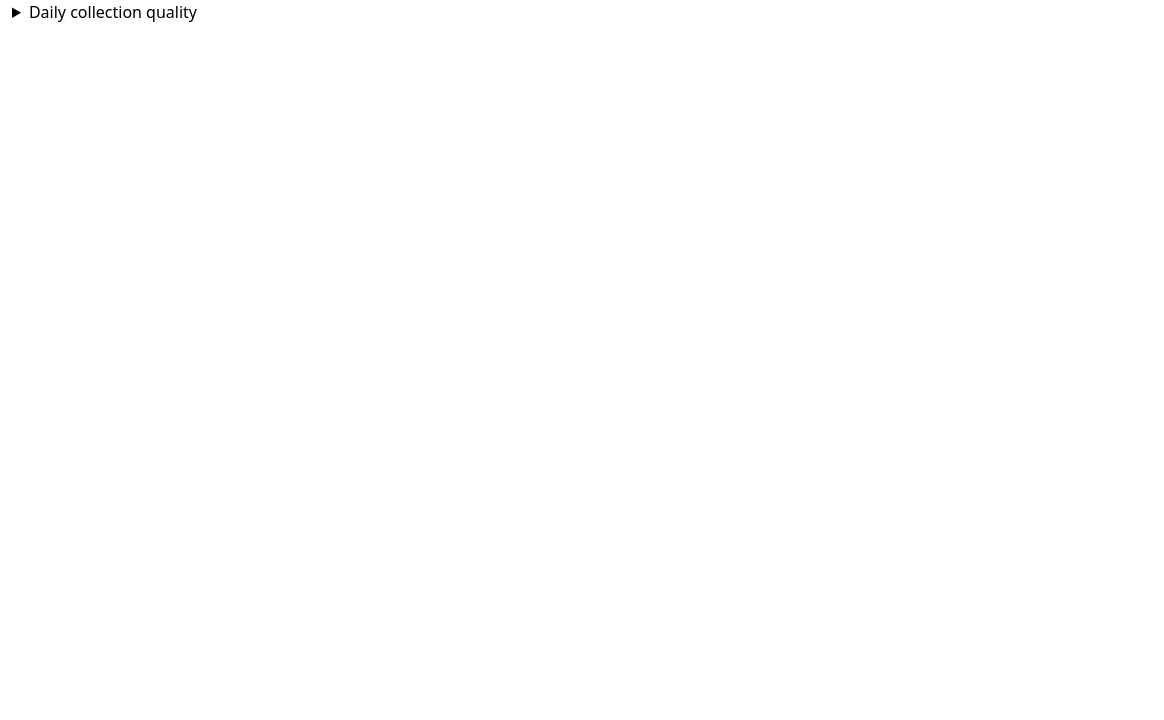
it: quality requests are explicit and never imply clinical readiness
This screenshot has width=1164, height=720.
What coordinates should you click on to do the following:
click the heading "Daily collection quality"
I would click on:
 (113, 12)
Its box is [29,1,197,23].
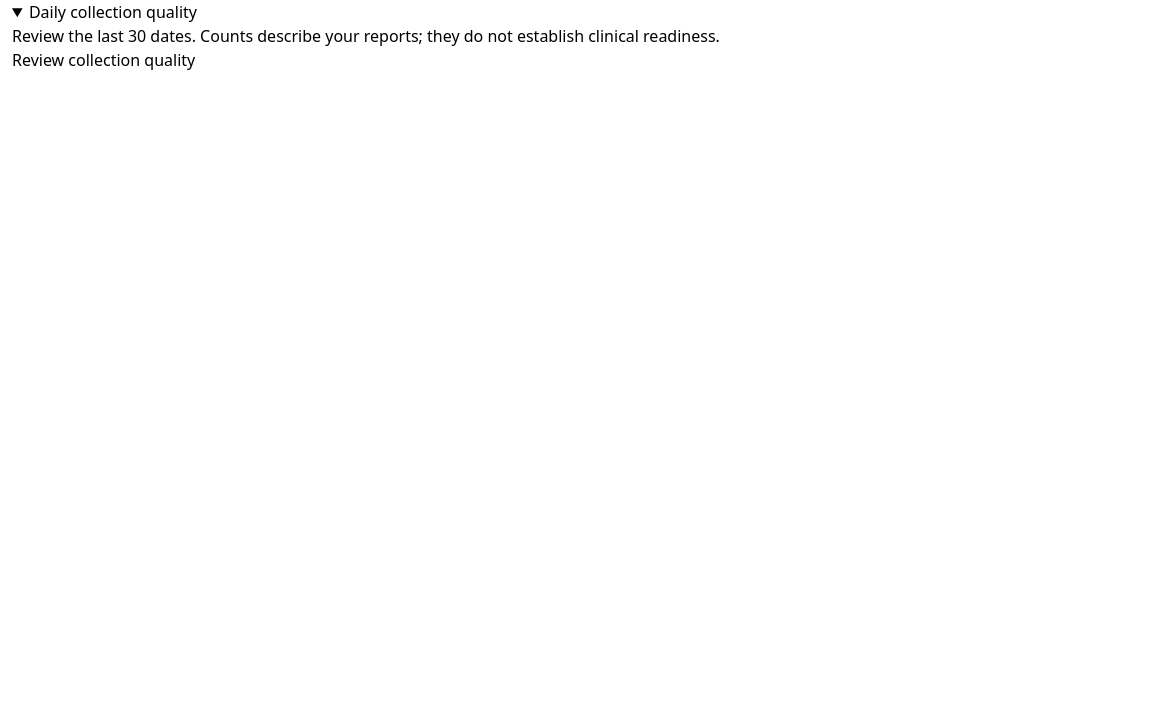
What coordinates should you click on to do the following:
click the button "Review collection quality"
I would click on:
 (104, 60)
Its box is [12,48,195,72].
(page scrolled)
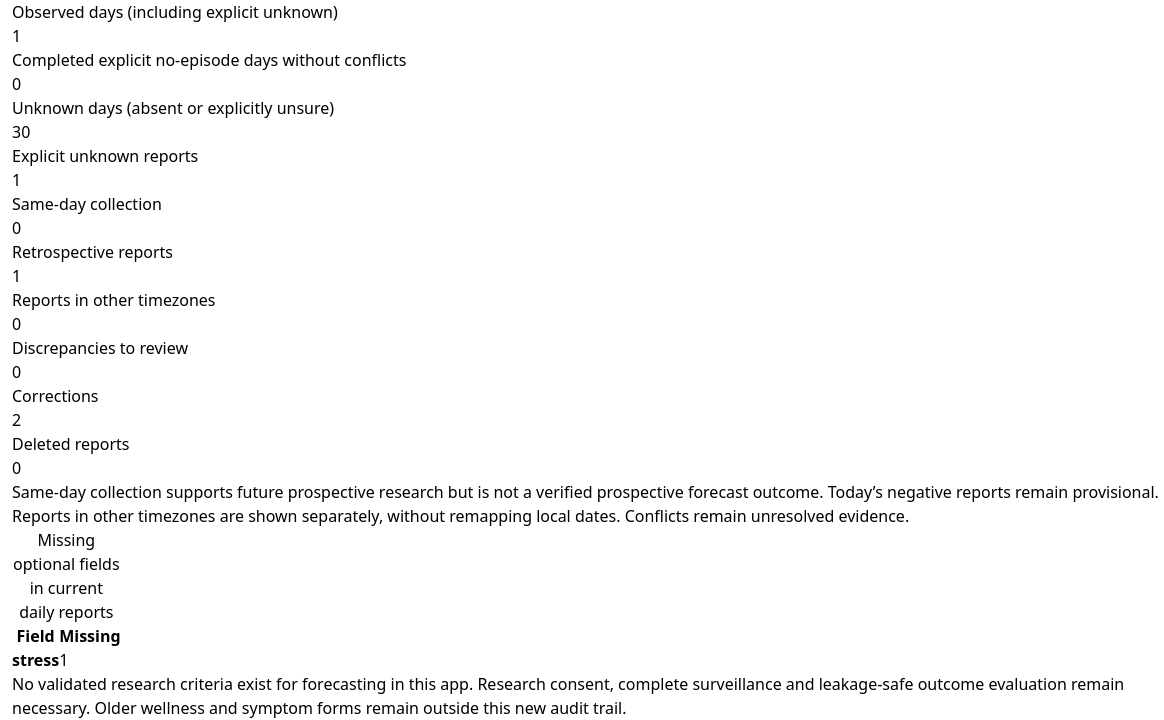
expect the column heading "stress" is shown: met, box [12,648,59,672]
